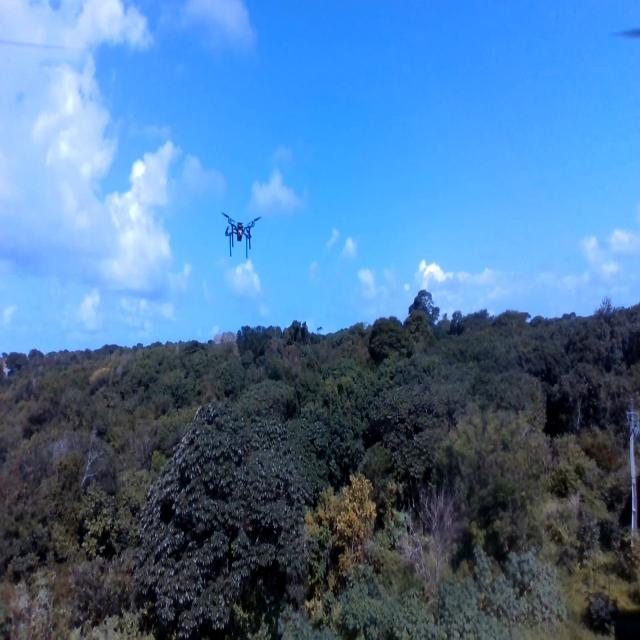-uav-: (218, 205, 266, 265)
